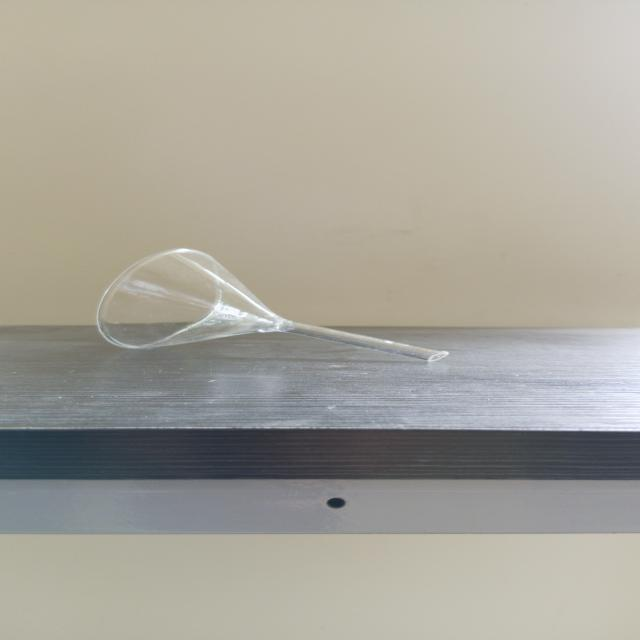funnel: (84, 243, 458, 375)
